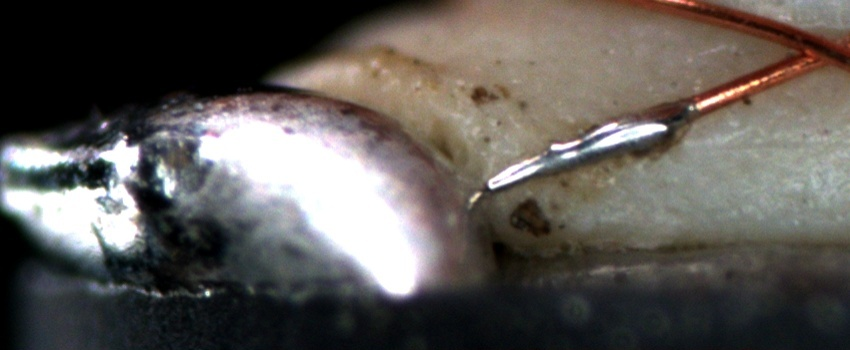CL: (769, 23, 848, 78)
DL: (699, 112, 850, 174)
TS: (483, 102, 685, 193)
TTCW: (477, 89, 730, 192)
